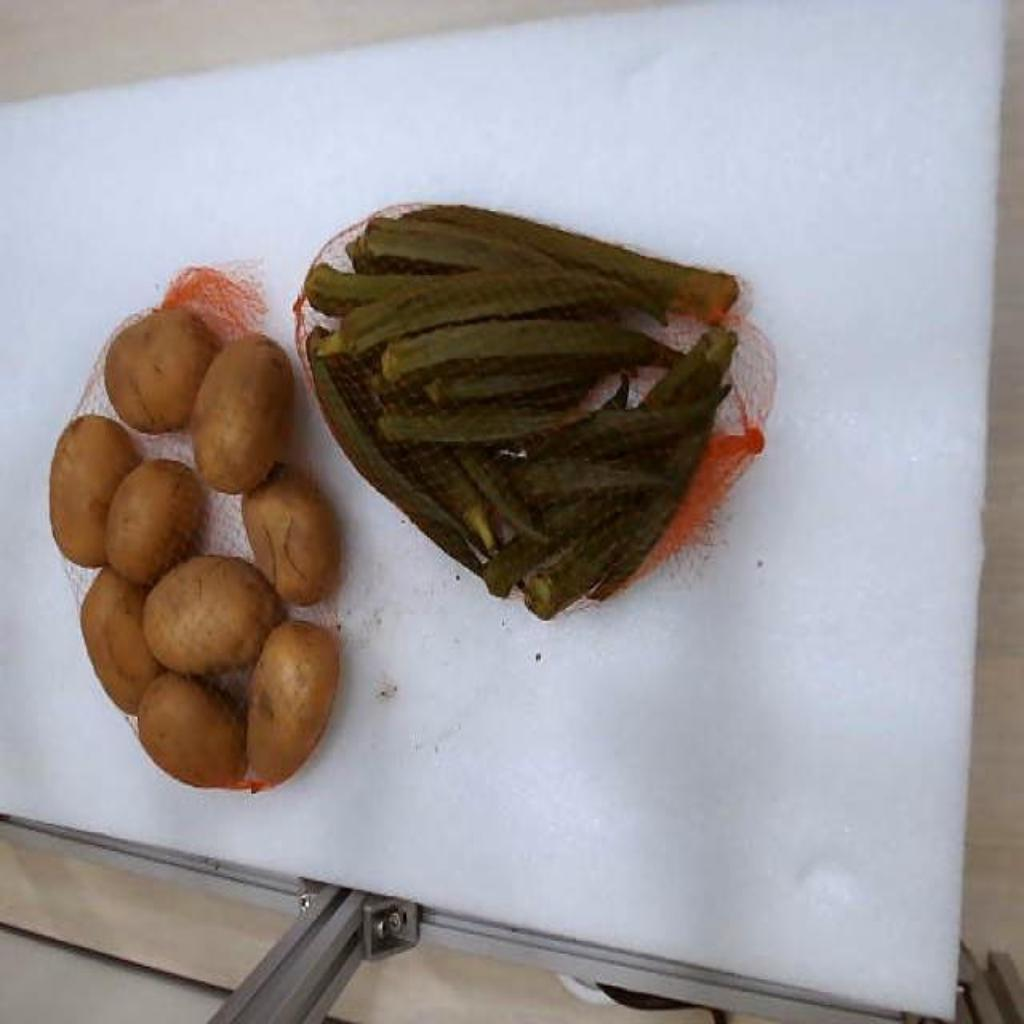potato: (298, 203, 740, 617), (190, 333, 294, 493), (142, 557, 282, 675), (248, 619, 340, 783), (106, 309, 220, 433), (50, 416, 140, 567), (242, 464, 338, 604), (138, 672, 246, 787), (106, 461, 204, 583), (82, 565, 162, 713)
